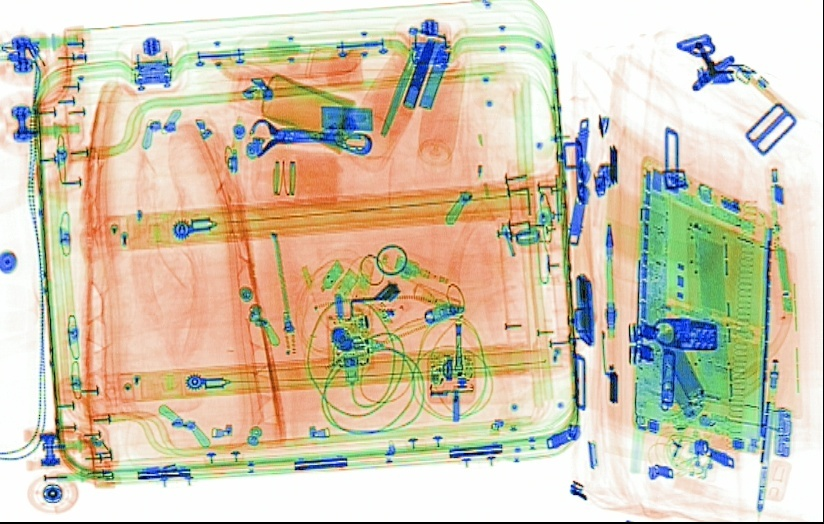powerbank: (649, 320, 710, 422)
pressure: (414, 55, 468, 168)
